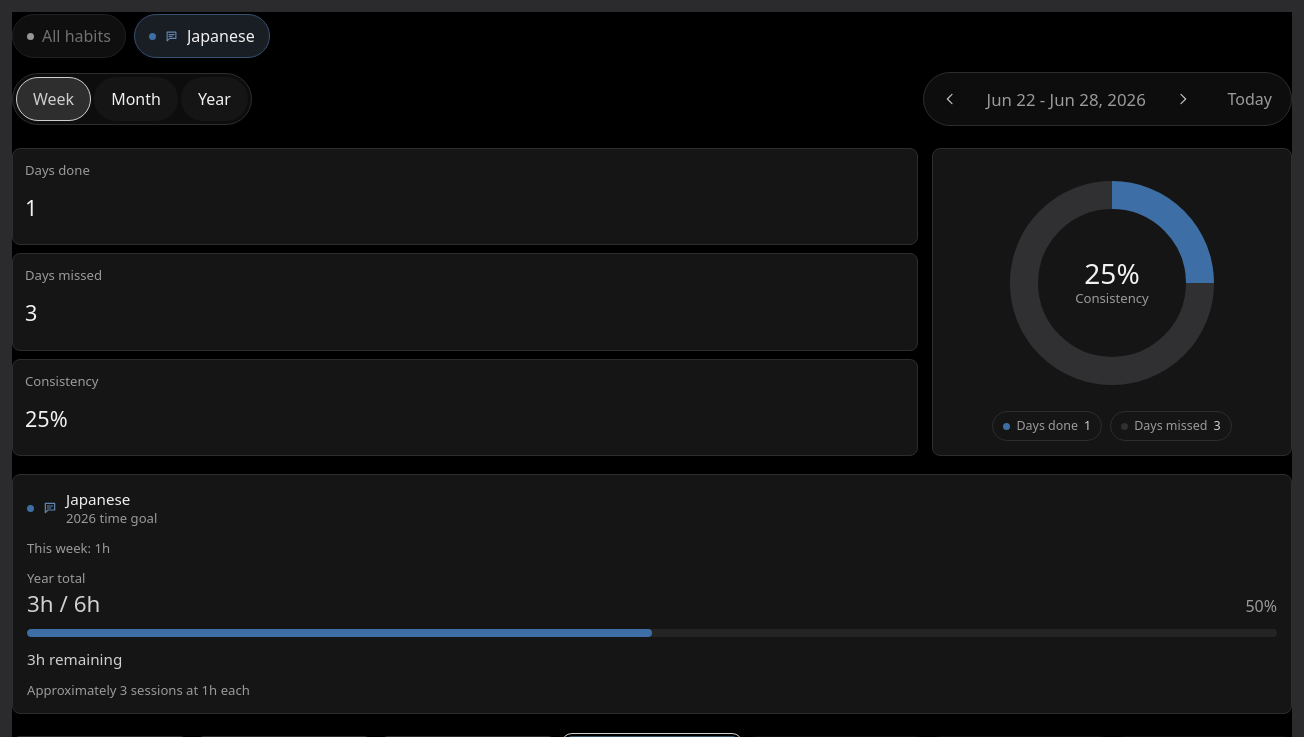
Test: StatisticsView time goal card › shows month contribution without changing the yearly goal
The image size is (1304, 737).
Click the button "Month". click: (136, 99)
box: [94,77,178,121]
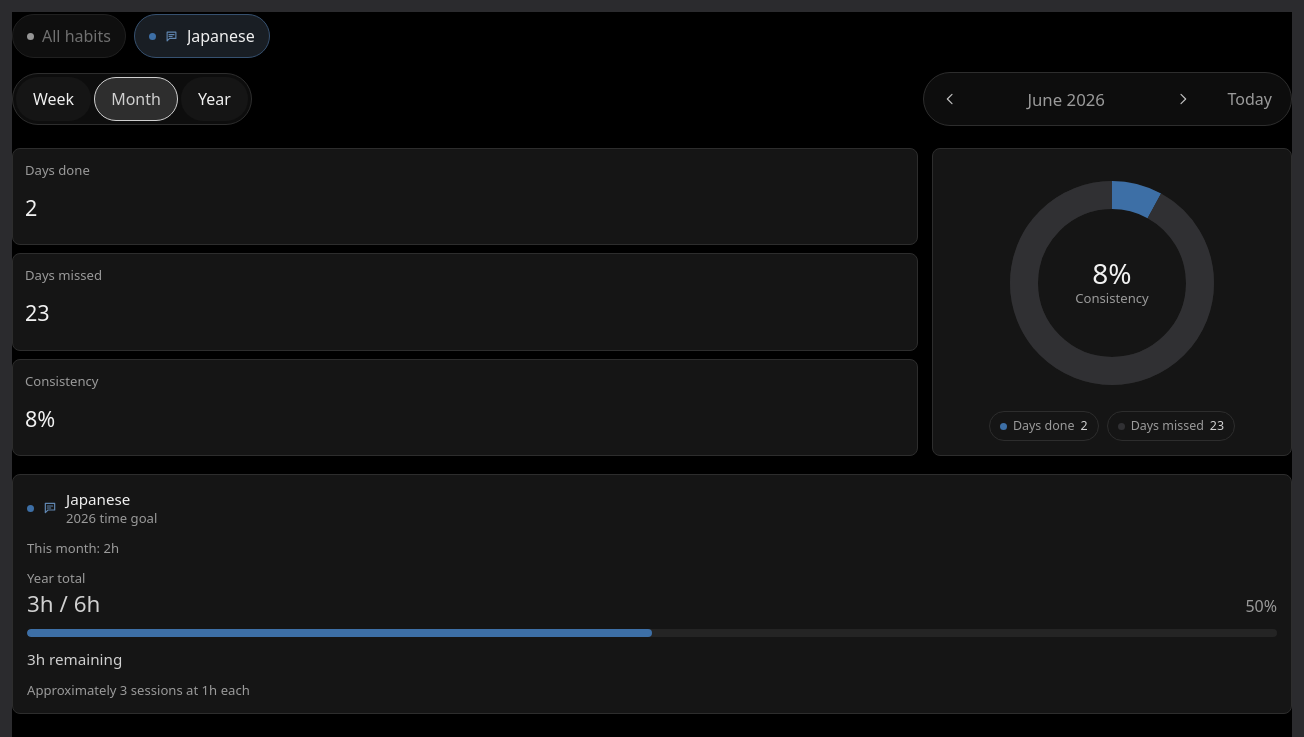
Expected: the text "3h / 6h" is shown, [27,593,100,615]
Now the text "This month: 2h" is shown, box [27,539,119,557]
